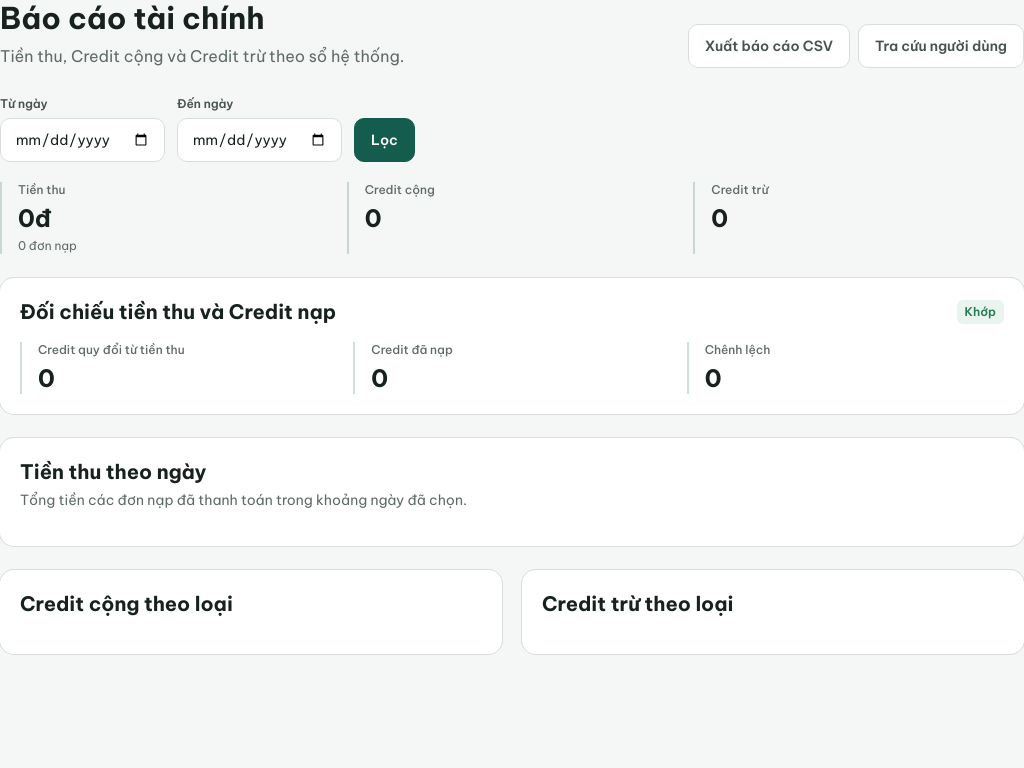
Test: AdminFinanceReport CSV › xuất file bằng đúng bộ lọc đã áp dụng và thông báo thành công
Expected: the heading "Đối chiếu tiền thu và Credit nạp" is shown, [20, 298, 336, 326]
Expected: the text "Khớp" is shown, [956, 300, 1004, 324]
In the date field labelled "Từ ngày": (82, 140) [0, 118, 165, 162], type "2026-10-01"
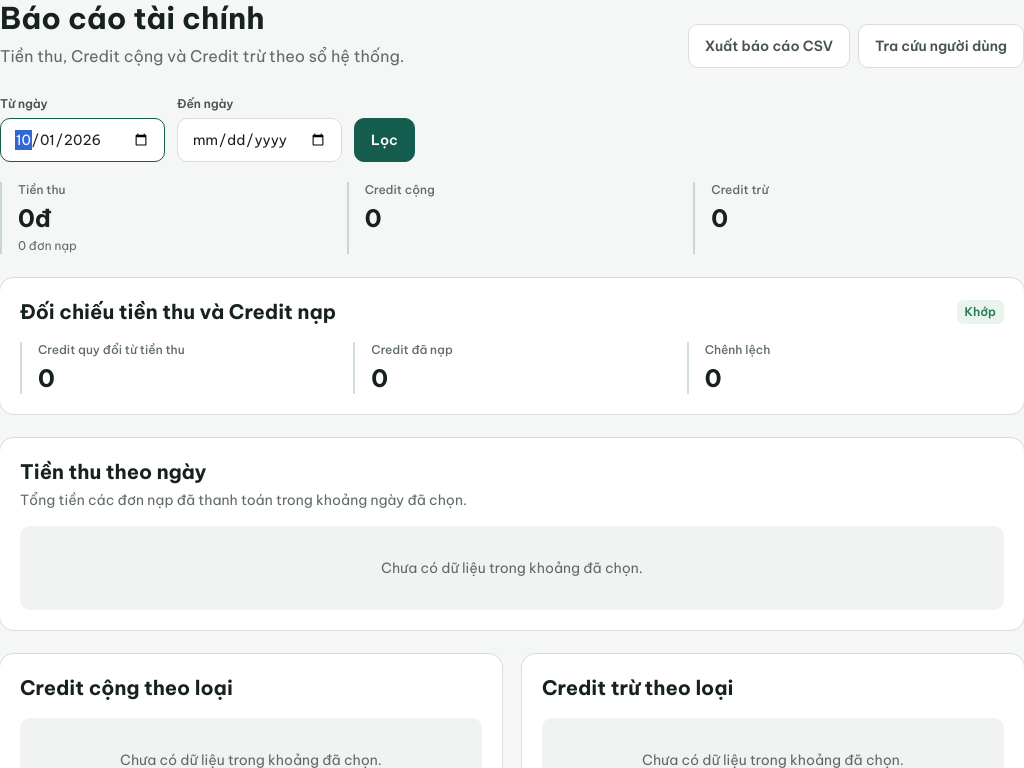
In the date field labelled "Đến ngày": (260, 140) [177, 118, 342, 162], type "2026-10-31"
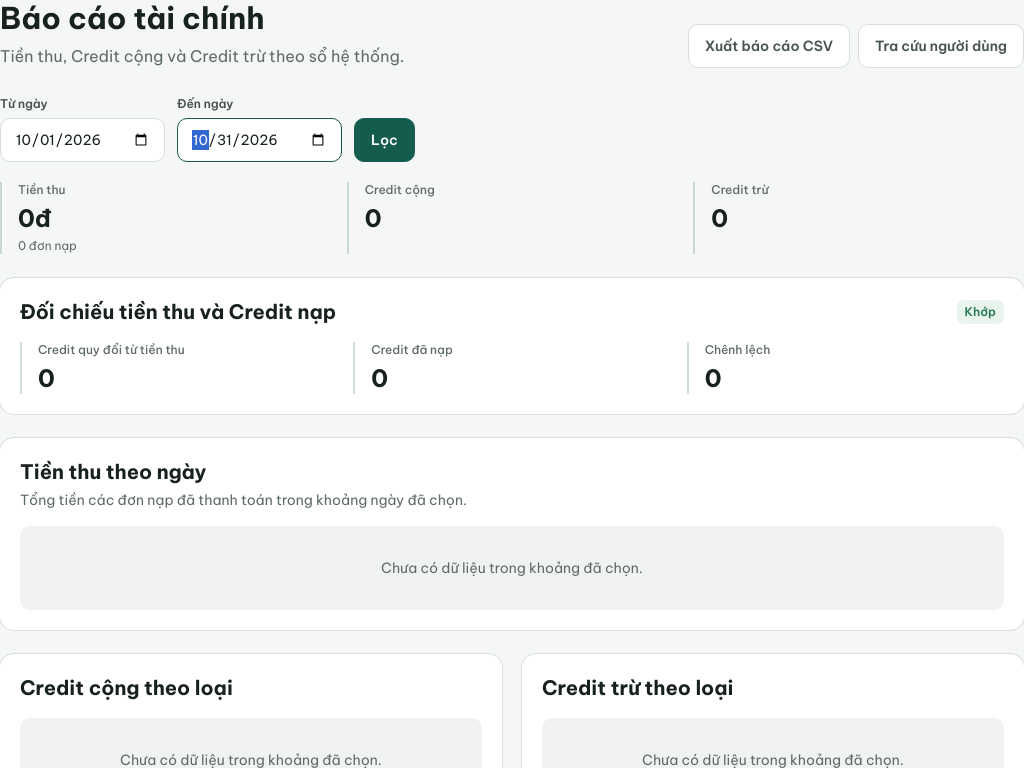
Click the button "Lọc": (384, 140) [354, 118, 415, 162]
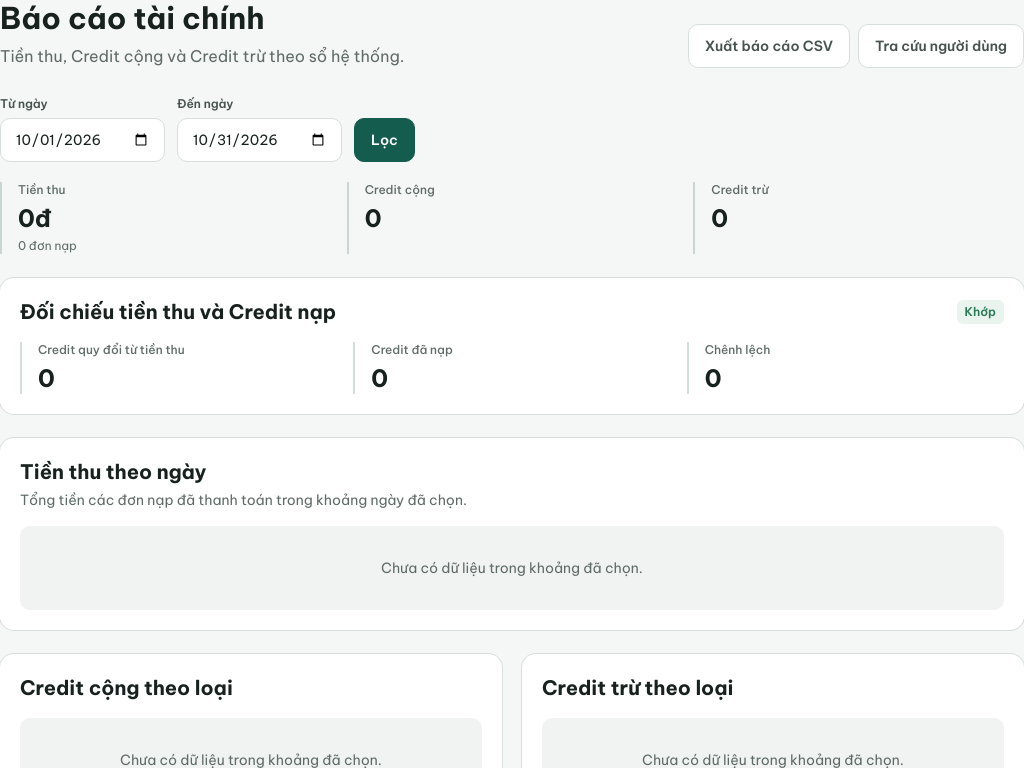
Click the button "Xuất báo cáo CSV": (769, 46) [688, 24, 850, 68]
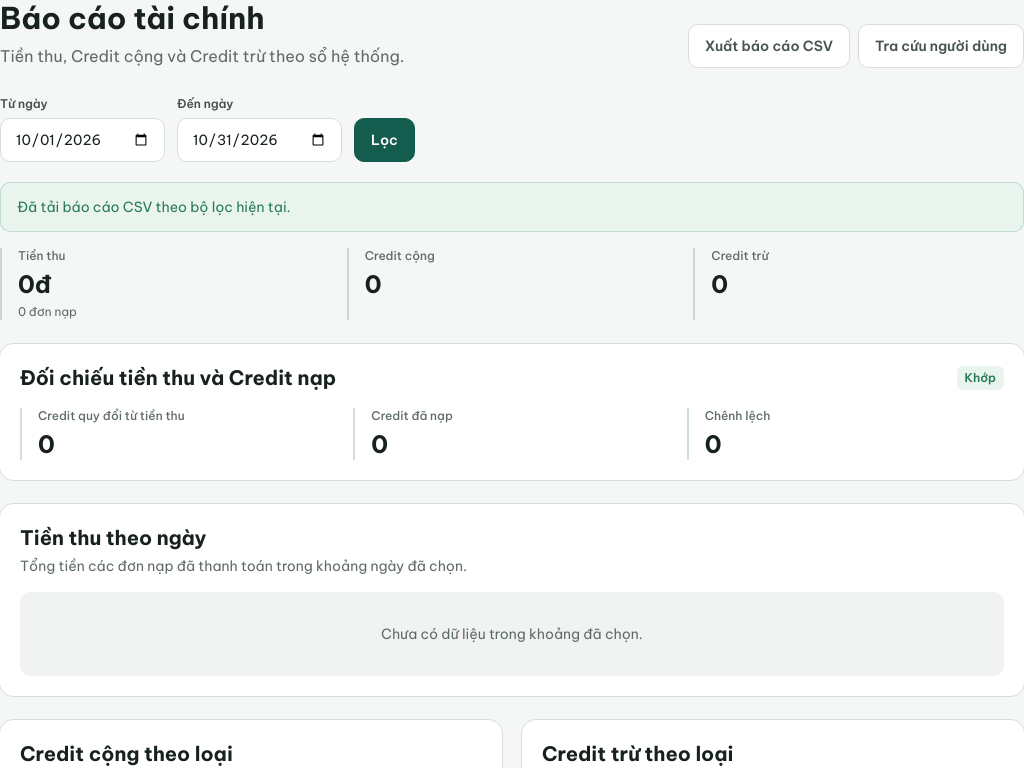
Expected: the text "Đã tải báo cáo CSV theo bộ lọc hiện tại." is shown, [0, 182, 1023, 232]
